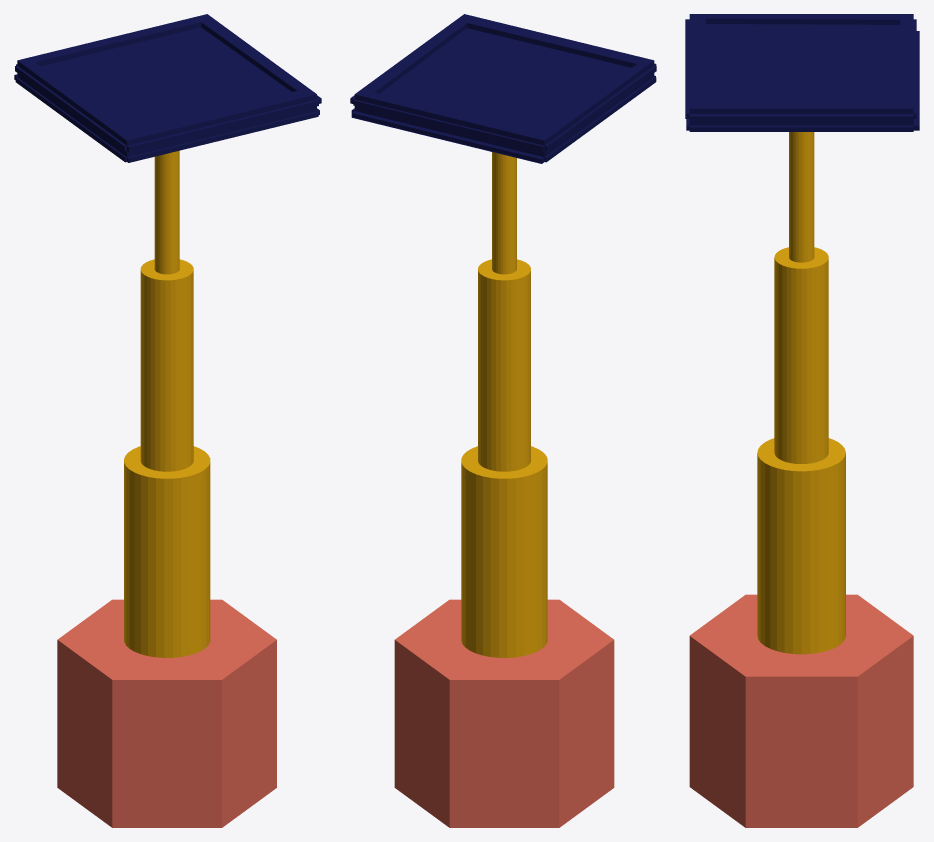
Rendered from PneumaticLifter.fbx.
The picture shows the model from 3 angles, left to right: view 1: azimuth 30°, elevation 25°; view 2: azimuth 150°, elevation 25°; view 3: azimuth 270°, elevation 25°; orthographic projection. The views are drawn at different scales.
Visible parts, largest first — view 1: Cylinder, Cylinder.001, Cube; view 2: Cylinder, Cylinder.001, Cube; view 3: Cylinder, Cylinder.001, Cube.
Boxes of the visible parts, x1,y1,x2,y2 form: Cylinder: (57, 599, 276, 827); Cylinder.001: (124, 150, 210, 657); Cube: (14, 14, 321, 162); Cylinder: (394, 599, 614, 827); Cylinder.001: (461, 152, 547, 657); Cube: (350, 14, 656, 163); Cylinder: (689, 594, 913, 827); Cylinder.001: (757, 132, 845, 654); Cube: (685, 14, 919, 131).
Size of the model in its own units: 207 by 714 by 209.
